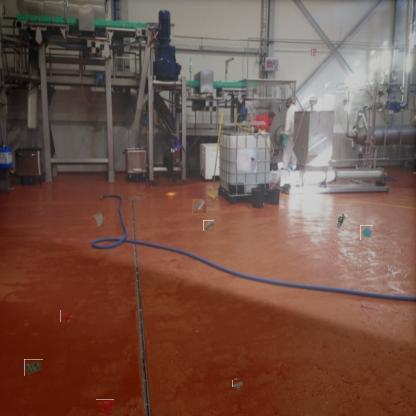dirty: (24, 359, 43, 376), (334, 214, 348, 231), (90, 211, 104, 227), (192, 199, 206, 213), (360, 225, 373, 240), (203, 220, 214, 231), (233, 379, 243, 388)
liquid: (98, 398, 113, 414), (60, 310, 73, 322)
